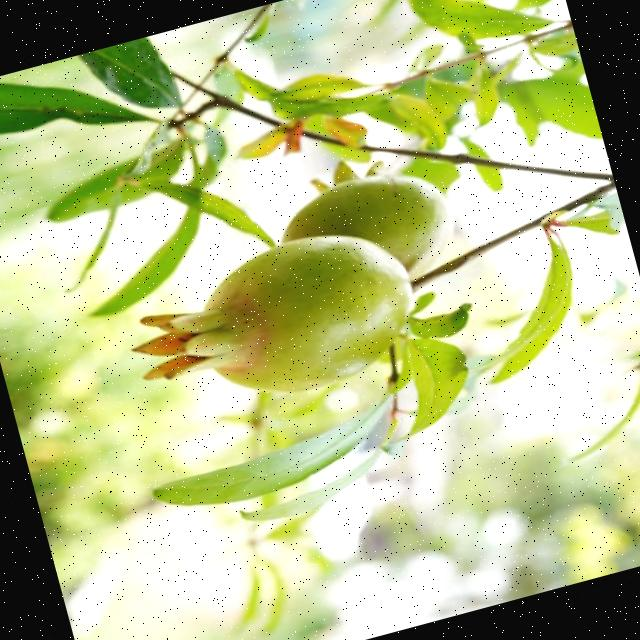Unripe: (112, 212, 434, 432)
